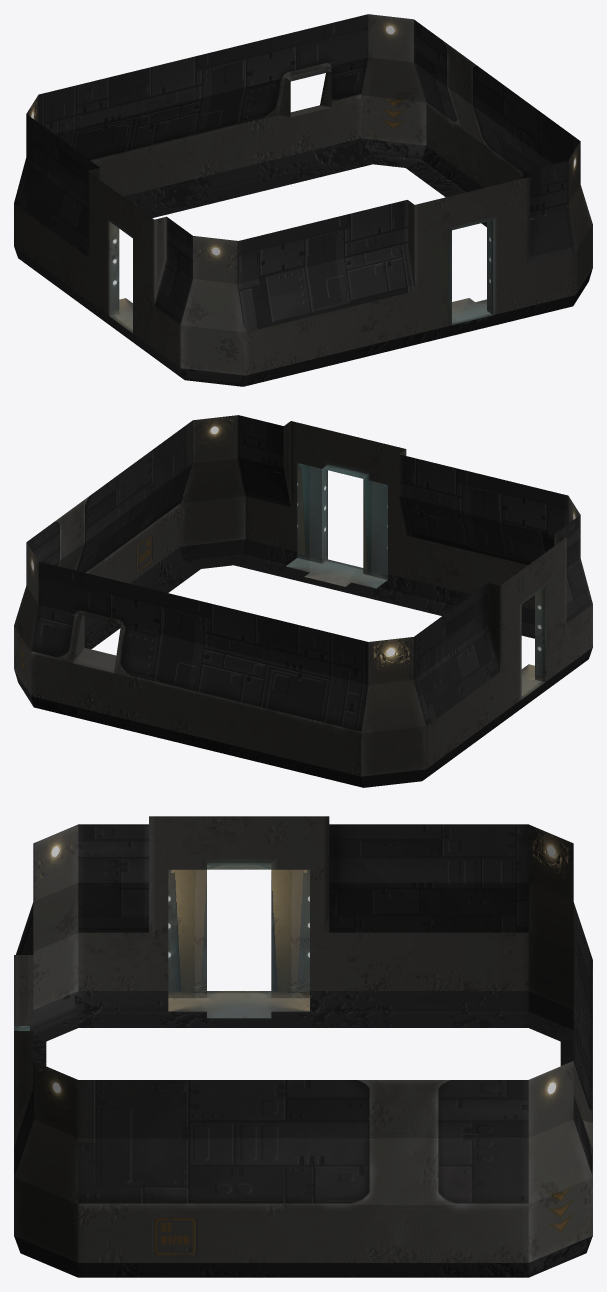
Rendered from cargo-hall-ext.obj.
The picture shows the model from 3 angles, top to bottom: view 1: azimuth 30°, elevation 25°; view 2: azimuth 150°, elevation 25°; view 3: azimuth 270°, elevation 25°; orthographic projection. The views are drawn at different scales.
Parts seen in each view (by area): view 1: basic-frame-low.001_Cube.005; view 2: basic-frame-low.001_Cube.005; view 3: basic-frame-low.001_Cube.005.
Boxes of the visible parts, x1,y1,x2,y2 form: basic-frame-low.001_Cube.005: (14, 14, 592, 386); basic-frame-low.001_Cube.005: (14, 415, 592, 787); basic-frame-low.001_Cube.005: (14, 816, 592, 1277).
Bounding box in the file's own units: 10 × 3.4 × 9.
